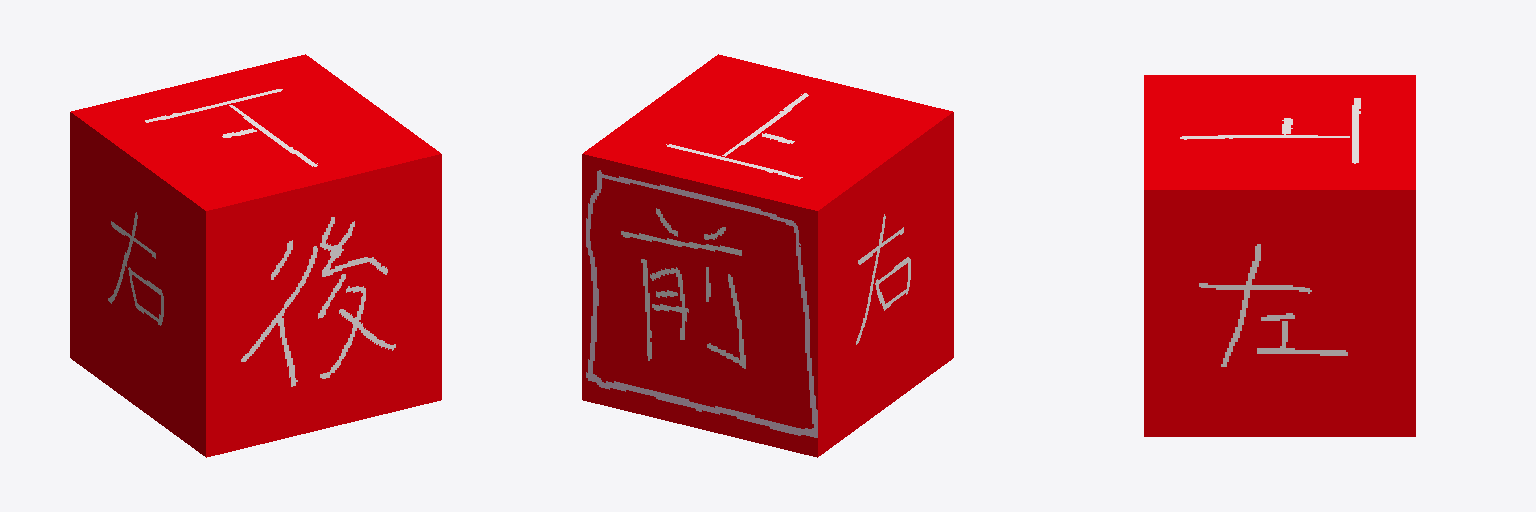
3 renders of one model, left to right at view 1: azimuth 30°, elevation 25°; view 2: azimuth 150°, elevation 25°; view 3: azimuth 270°, elevation 25°, orthographic.
Parts seen in each view (by area): view 1: Cube; view 2: Cube; view 3: Cube.
Part boxes in pixels (left/top/right/bottom): Cube: left=70, top=54, right=441, bottom=457; Cube: left=582, top=54, right=953, bottom=457; Cube: left=1144, top=75, right=1415, bottom=436.
Size of the model in its own units: 1 by 1 by 1.
1 materials, 1 textured.